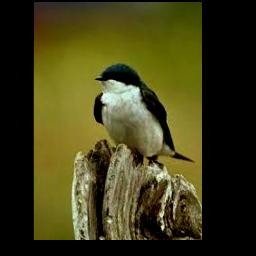Swallow: (94, 63, 193, 164)
